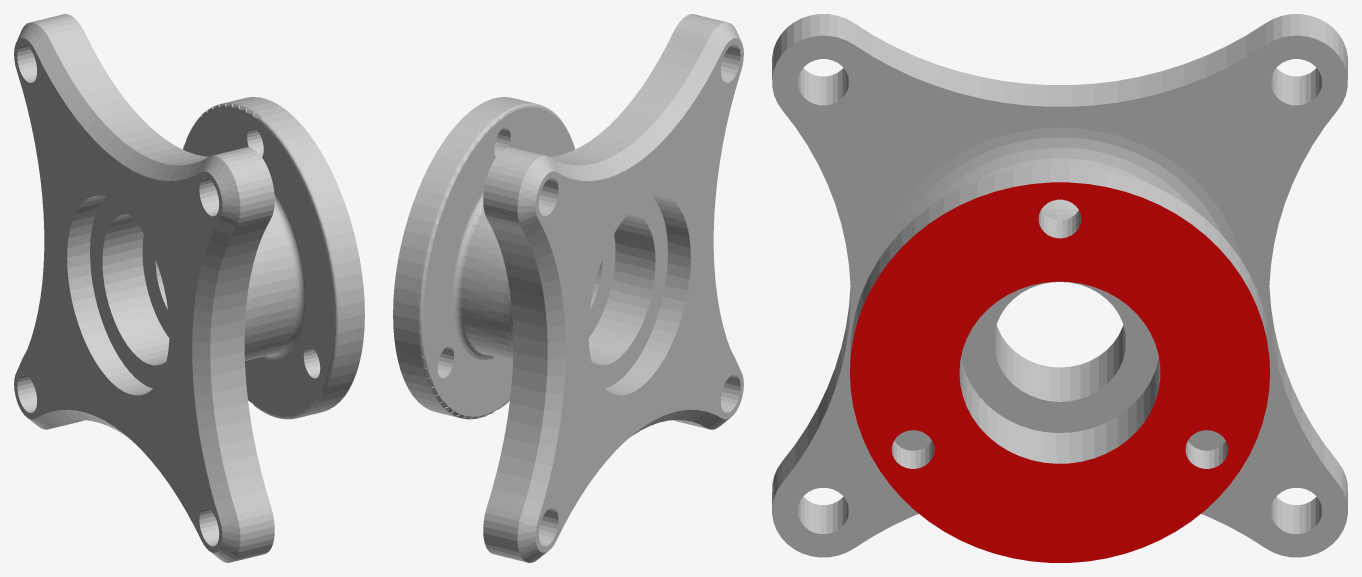
File: Cubo_Dianteiro_stp_10.obj
The picture shows the model from 3 angles, left to right: view 1: azimuth 30°, elevation 25°; view 2: azimuth 150°, elevation 25°; view 3: azimuth 270°, elevation 25°; orthographic projection. The views are drawn at different scales.
Visible parts, largest first — view 1: Object1; view 2: Object1; view 3: Object1.
Part boxes in pixels (x1=…): Object1: x1=14, y1=14, x2=364, y2=562; Object1: x1=393, y1=14, x2=743, y2=562; Object1: x1=772, y1=14, x2=1347, y2=562.
Size of the model in its own units: 58 by 134 by 134.
